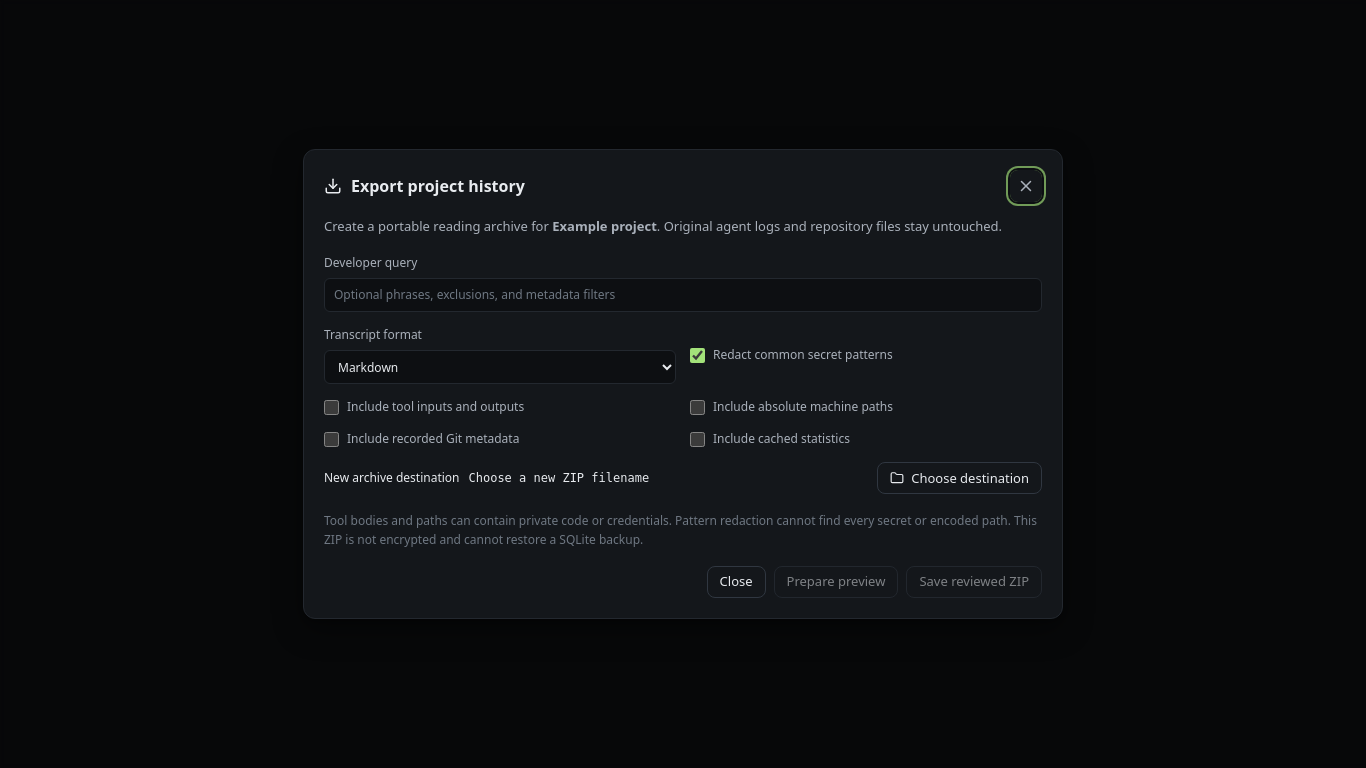
Test case: privacy defaults require an exact reviewed preview before any archive is written
The image size is (1366, 768).
Check: the checkbox labelled "Redact common secret patterns" is checked, box [690,348,705,363]
Check: the checkbox labelled "Include tool inputs and outputs" is not checked, box [324,400,339,415]
Click the button "Choose destination" at {"x": 960, "y": 478}, box [877,462,1042,494]
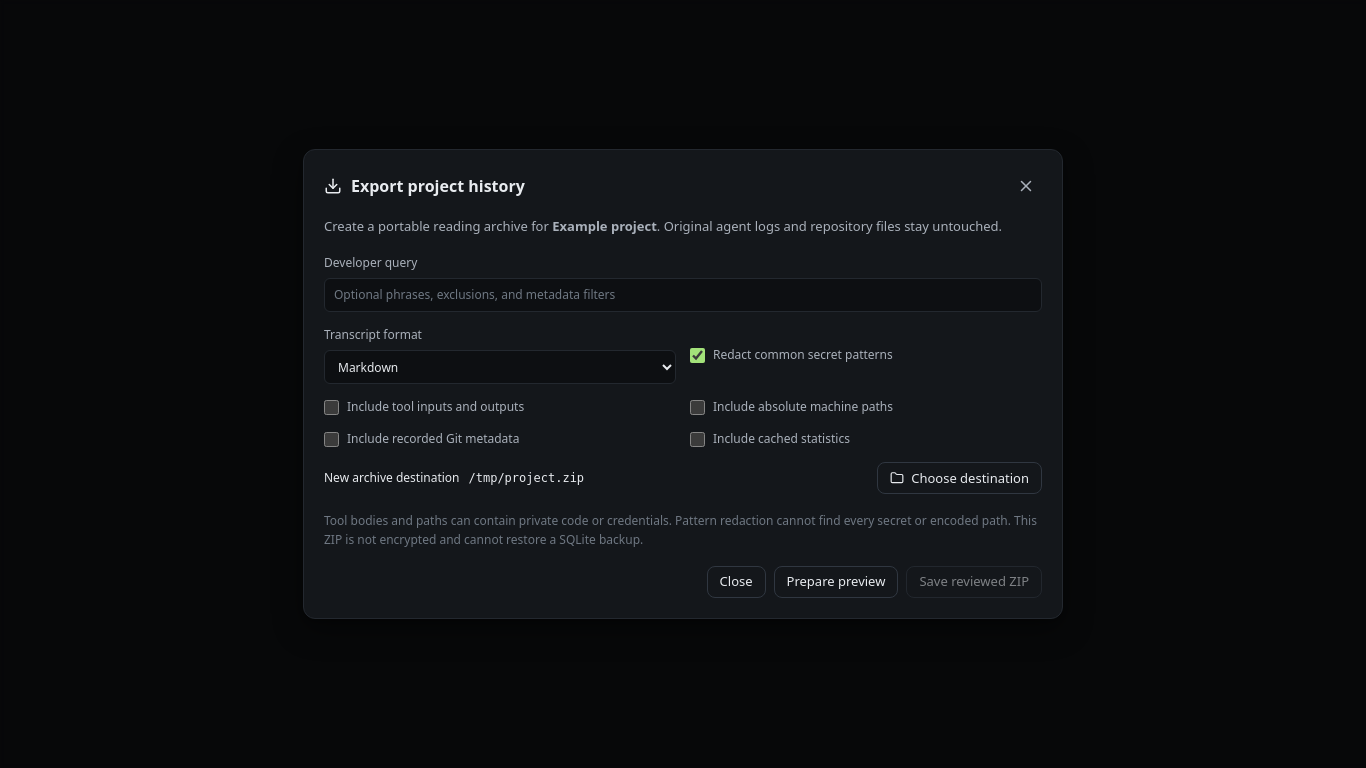
Click the button "Prepare preview" at {"x": 836, "y": 582}, box [774,566,898,598]
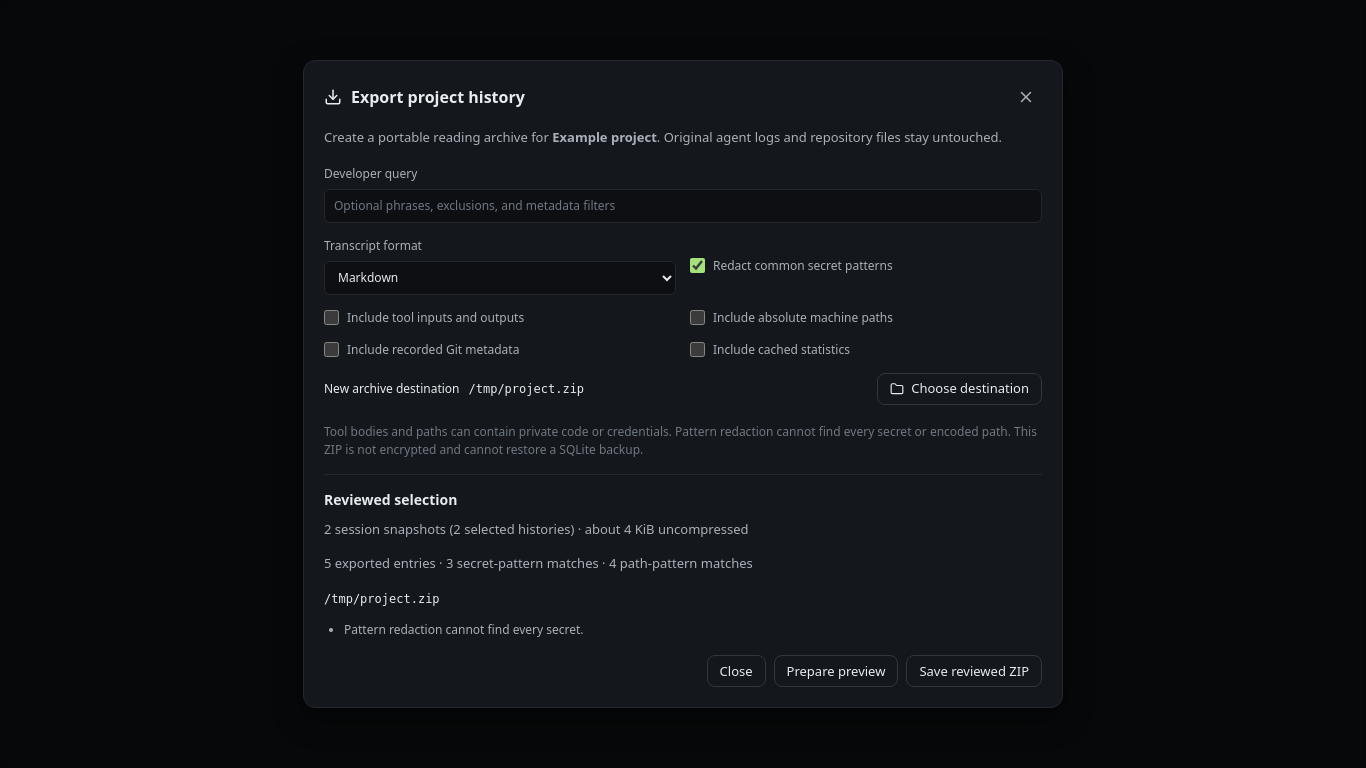
Check: the heading "Reviewed selection" is shown, box [324,490,457,509]
Check: the text "2 session snapshots" is shown, box [324,520,748,538]
Check: the text "3 secret-pattern matches" is shown, box [324,554,753,572]
Click the button "Save reviewed ZIP" at {"x": 974, "y": 671}, box [906,655,1042,687]
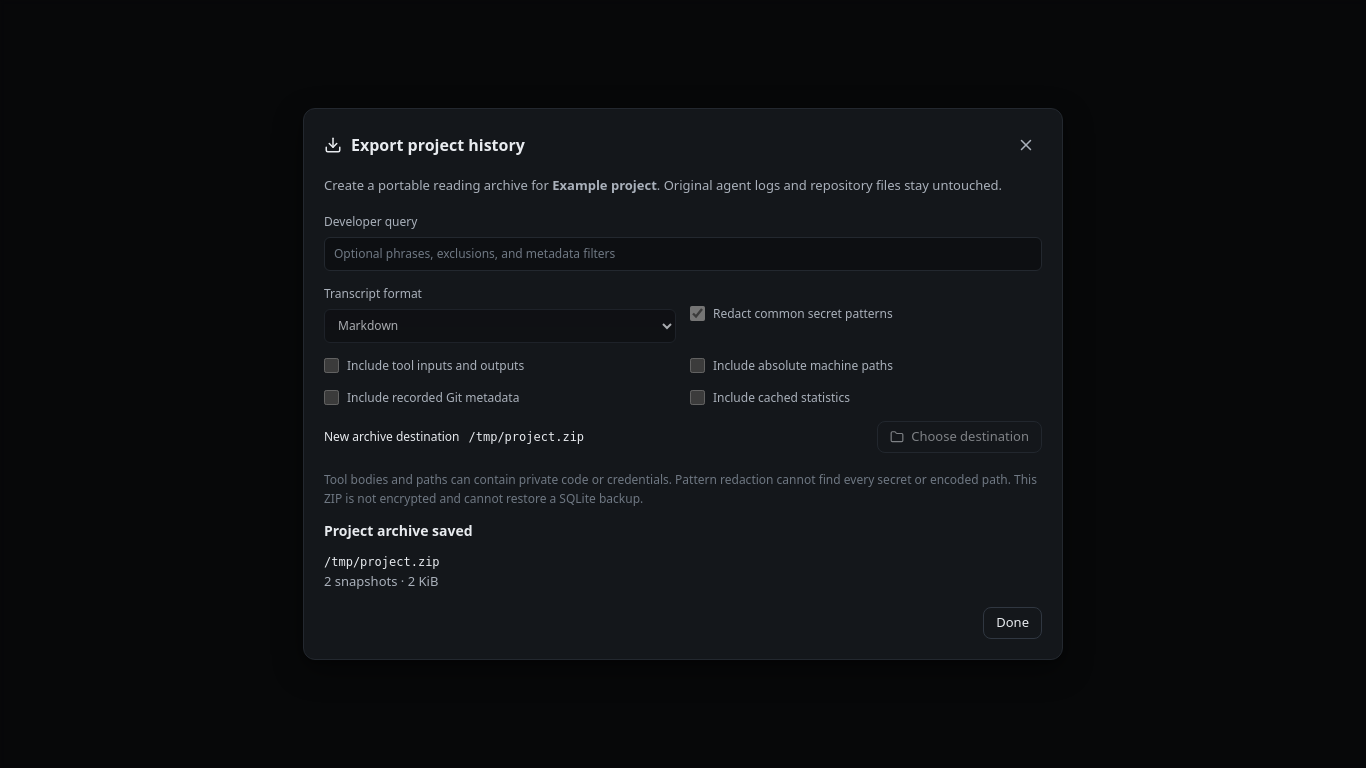
Check: the heading "Project archive saved" is shown, box [324,521,473,540]
